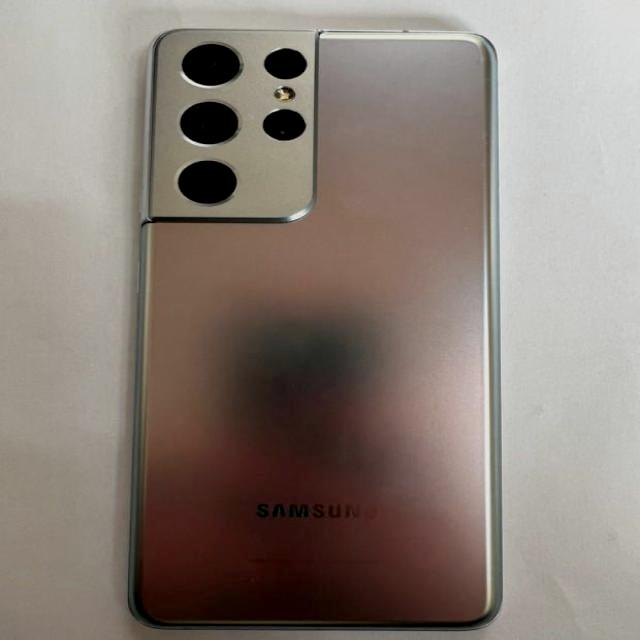phone: (130, 25, 514, 640)
